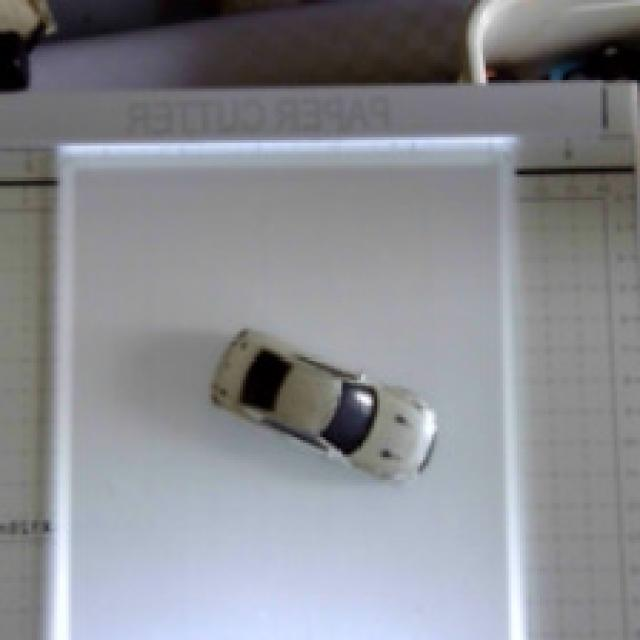Grey Car: (164, 290, 470, 524)
